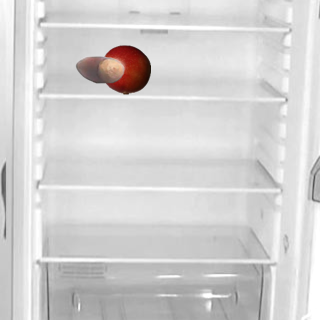Apple Braeburn: (100, 44, 150, 94)
Hazelnut: (74, 44, 124, 94)
